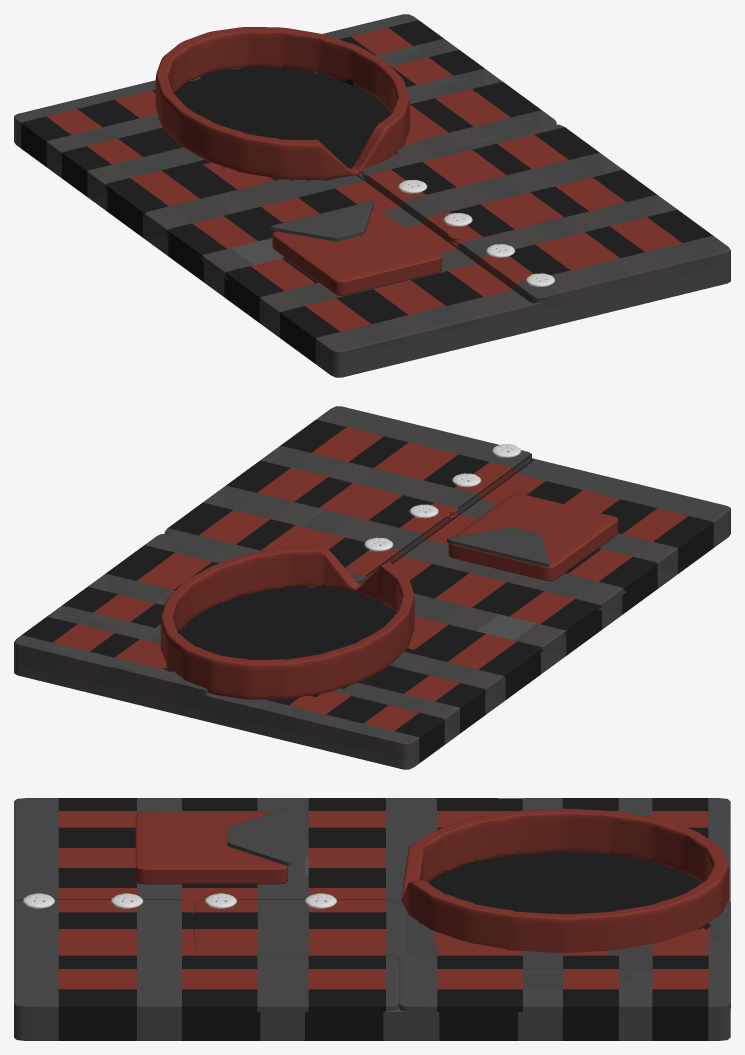
Rendered from PlaidShirtGeo 1.fbx.
The picture shows the model from 3 angles, top to bottom: view 1: azimuth 30°, elevation 25°; view 2: azimuth 150°, elevation 25°; view 3: azimuth 270°, elevation 25°; orthographic projection. The views are drawn at different scales.
Visible parts, largest first — view 1: shirtgeo; view 2: shirtgeo; view 3: shirtgeo.
Boxes of the visible parts, x1,y1,x2,y2 form: shirtgeo: (14, 14, 730, 377); shirtgeo: (14, 406, 730, 769); shirtgeo: (14, 798, 730, 1040).
Size of the model in its own units: 85.47 by 12.95 by 121.
